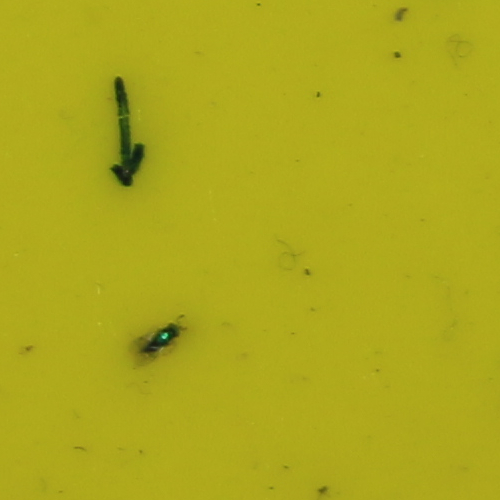wasp: (140, 319, 182, 358)
